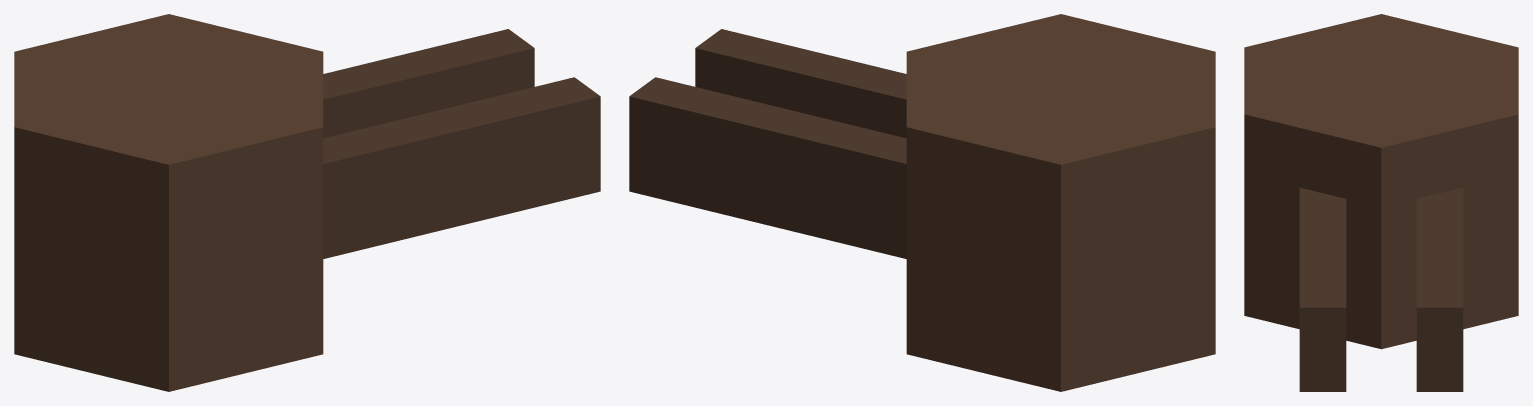
The model's file is SM_Prop_DownPipe_Connector_02.glb.
The picture shows the model from 3 angles, left to right: view 1: azimuth 30°, elevation 25°; view 2: azimuth 150°, elevation 25°; view 3: azimuth 270°, elevation 25°; orthographic projection. The views are drawn at different scales.
Visible parts, largest first — view 1: SM_Prop_DownPipe_Connector_02; view 2: SM_Prop_DownPipe_Connector_02; view 3: SM_Prop_DownPipe_Connector_02.
Part boxes in pixels (x1=…): SM_Prop_DownPipe_Connector_02: x1=14, y1=14, x2=600, y2=391; SM_Prop_DownPipe_Connector_02: x1=629, y1=14, x2=1215, y2=391; SM_Prop_DownPipe_Connector_02: x1=1244, y1=14, x2=1518, y2=391.
Size of the model in its own units: 0.4863 by 0.1953 by 0.241.
1 material, 1 textured.
